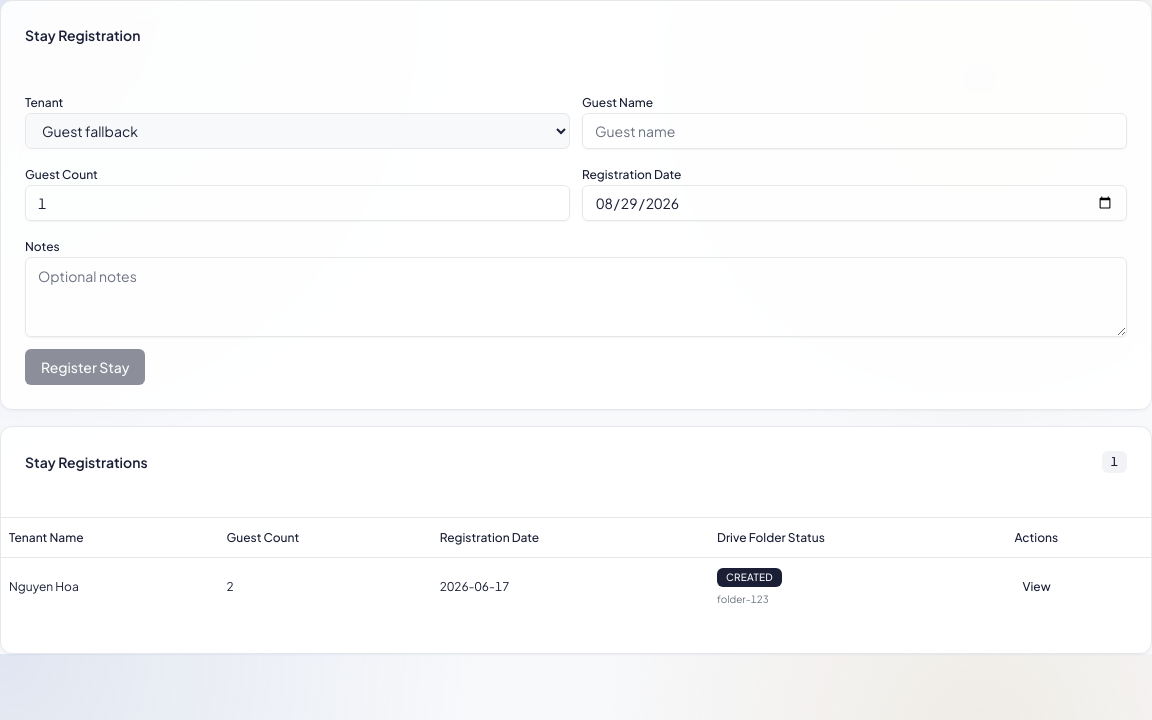
it: StayRegistrationTab › opens read-only detail dialog from the row action
The image size is (1152, 720).
Click the button "View".
click(1037, 587)  # box [1014,571,1059,603]
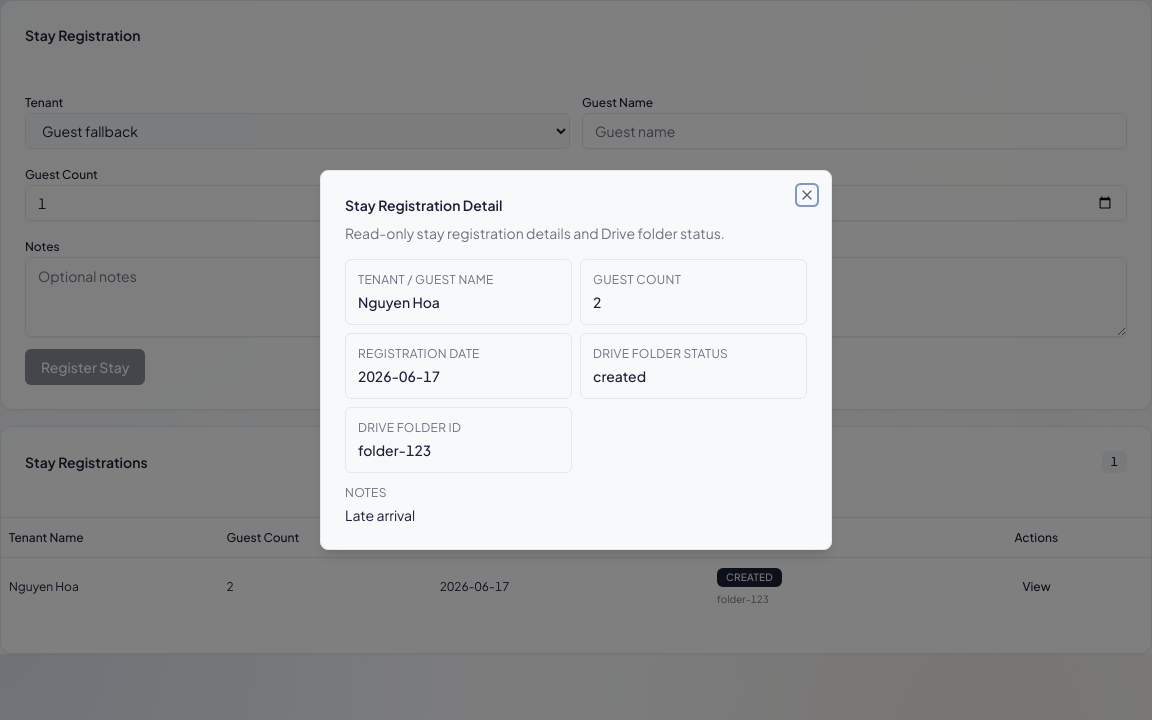
Check: the heading "Stay Registration Detail" is shown, box [345,196,502,214]
Check: the text "Tenant / Guest Name" is shown, box [358,272,494,287]
Check: the text "Nguyen Hoa" is shown, box [358,293,440,311]
